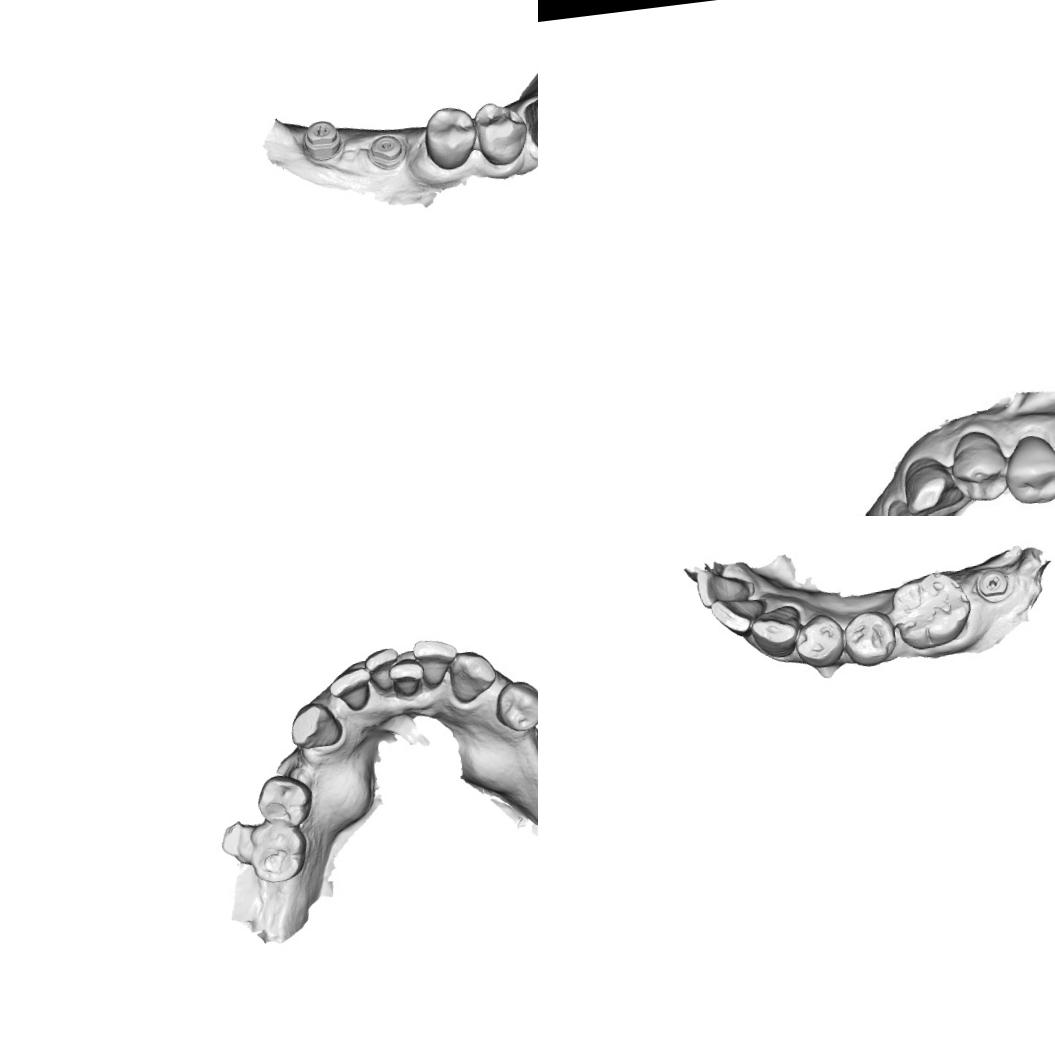canine: (900, 454, 960, 516), (747, 602, 805, 662), (444, 645, 500, 706), (285, 697, 343, 754)
implant: (363, 129, 409, 173)
implant_minus: (298, 117, 344, 164), (972, 565, 1014, 605)
incisor: (708, 592, 772, 640), (410, 633, 462, 691), (694, 562, 754, 610), (324, 664, 374, 714), (361, 646, 404, 694), (386, 656, 426, 700), (881, 500, 926, 516)
molar: (886, 566, 976, 654), (242, 815, 312, 888)
premolar: (948, 426, 1014, 506), (418, 102, 482, 174), (471, 95, 532, 170), (1002, 429, 1055, 508), (253, 770, 318, 832), (839, 606, 901, 671), (790, 609, 848, 673), (490, 675, 538, 735)
